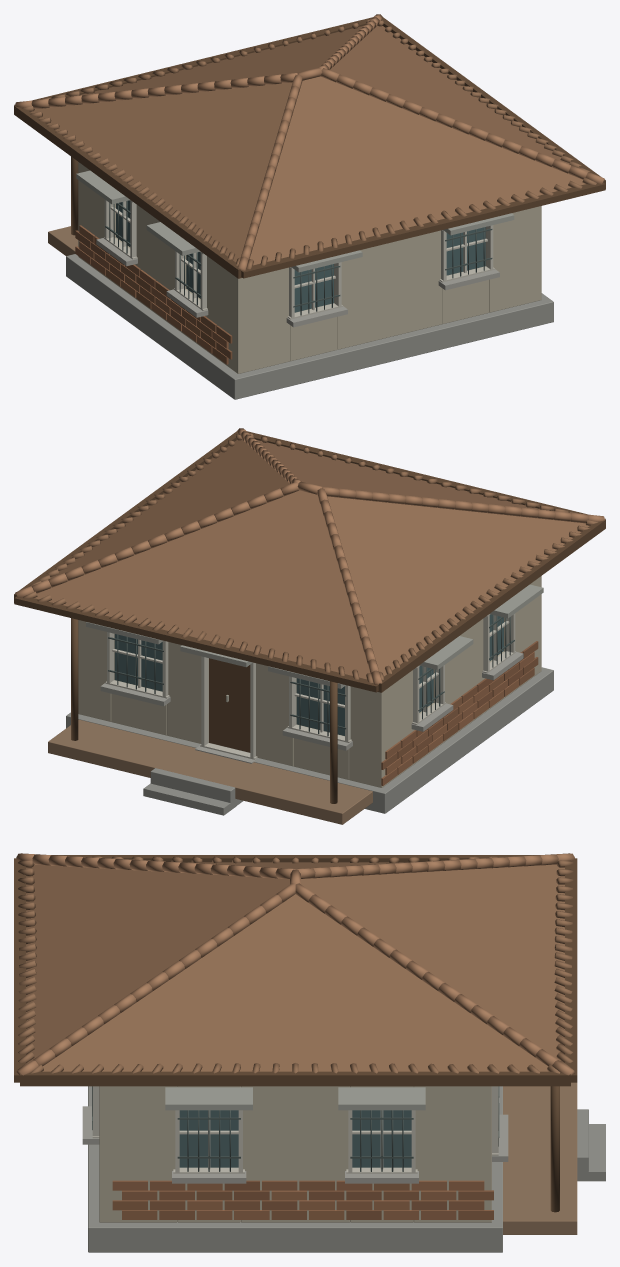
The model's file is laterite_cottage.glb.
3 views of the same model, one above another, from view 1: azimuth 30°, elevation 25°; view 2: azimuth 150°, elevation 25°; view 3: azimuth 270°, elevation 25° (orthographic). The views are drawn at different scales.
Parts seen in each view (by area): view 1: laterite_cottage; view 2: laterite_cottage; view 3: laterite_cottage.
Boxes of the visible parts, bbox=[...] form: laterite_cottage: bbox=[14, 14, 605, 399]; laterite_cottage: bbox=[14, 428, 605, 824]; laterite_cottage: bbox=[14, 853, 605, 1252].
Bounding box in the file's own units: 8.24 × 4.89 × 9.34.
